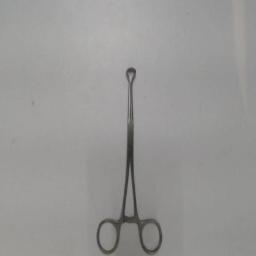Babcock Tissue Forceps: (95, 60, 165, 256)
